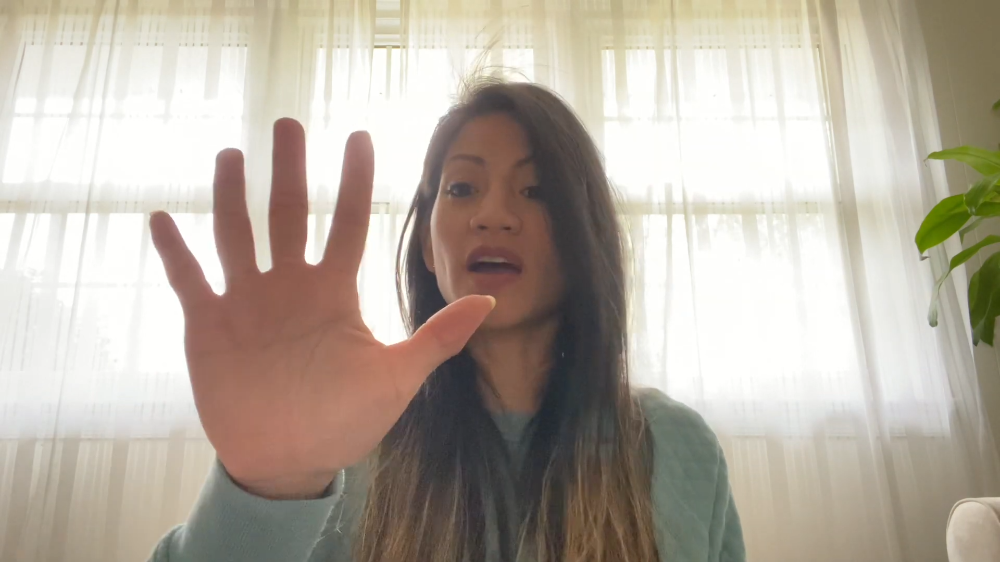hello: (145, 115, 488, 479)
